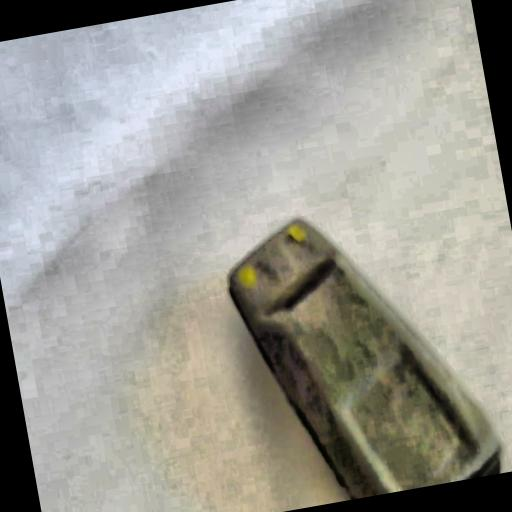normal_car: (204, 170, 512, 512)
